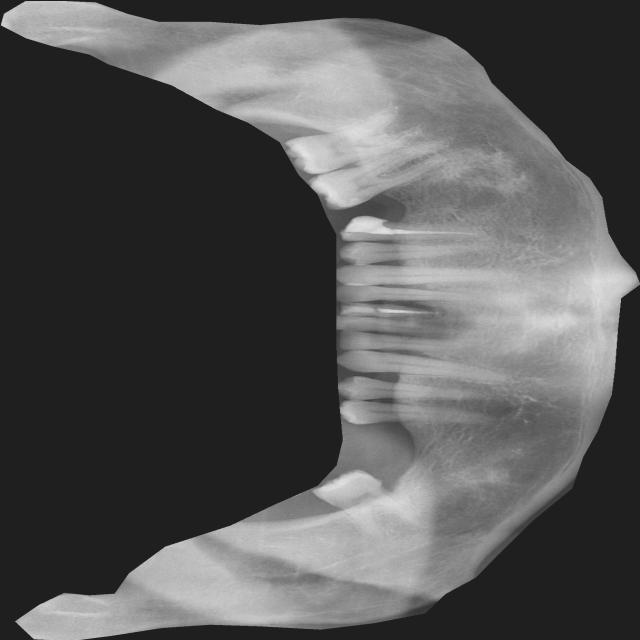mandibula: (1, 0, 640, 640)
